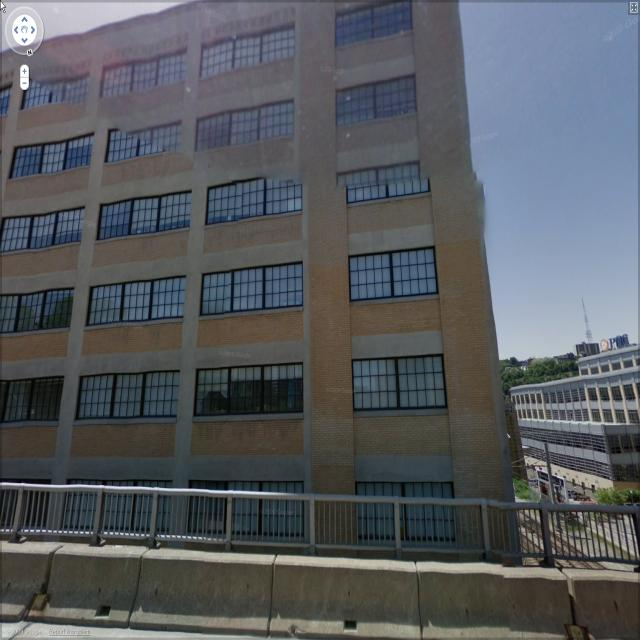b_1: (0, 3, 532, 548), (514, 329, 640, 503)
